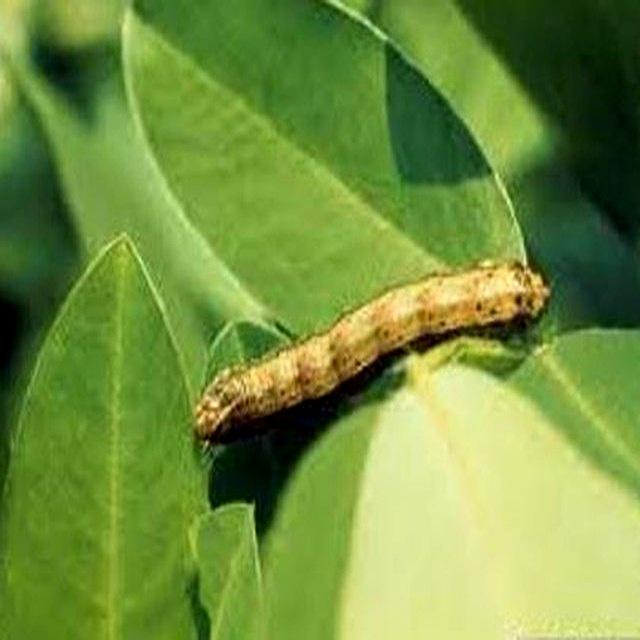Plaga: (187, 253, 557, 454)
